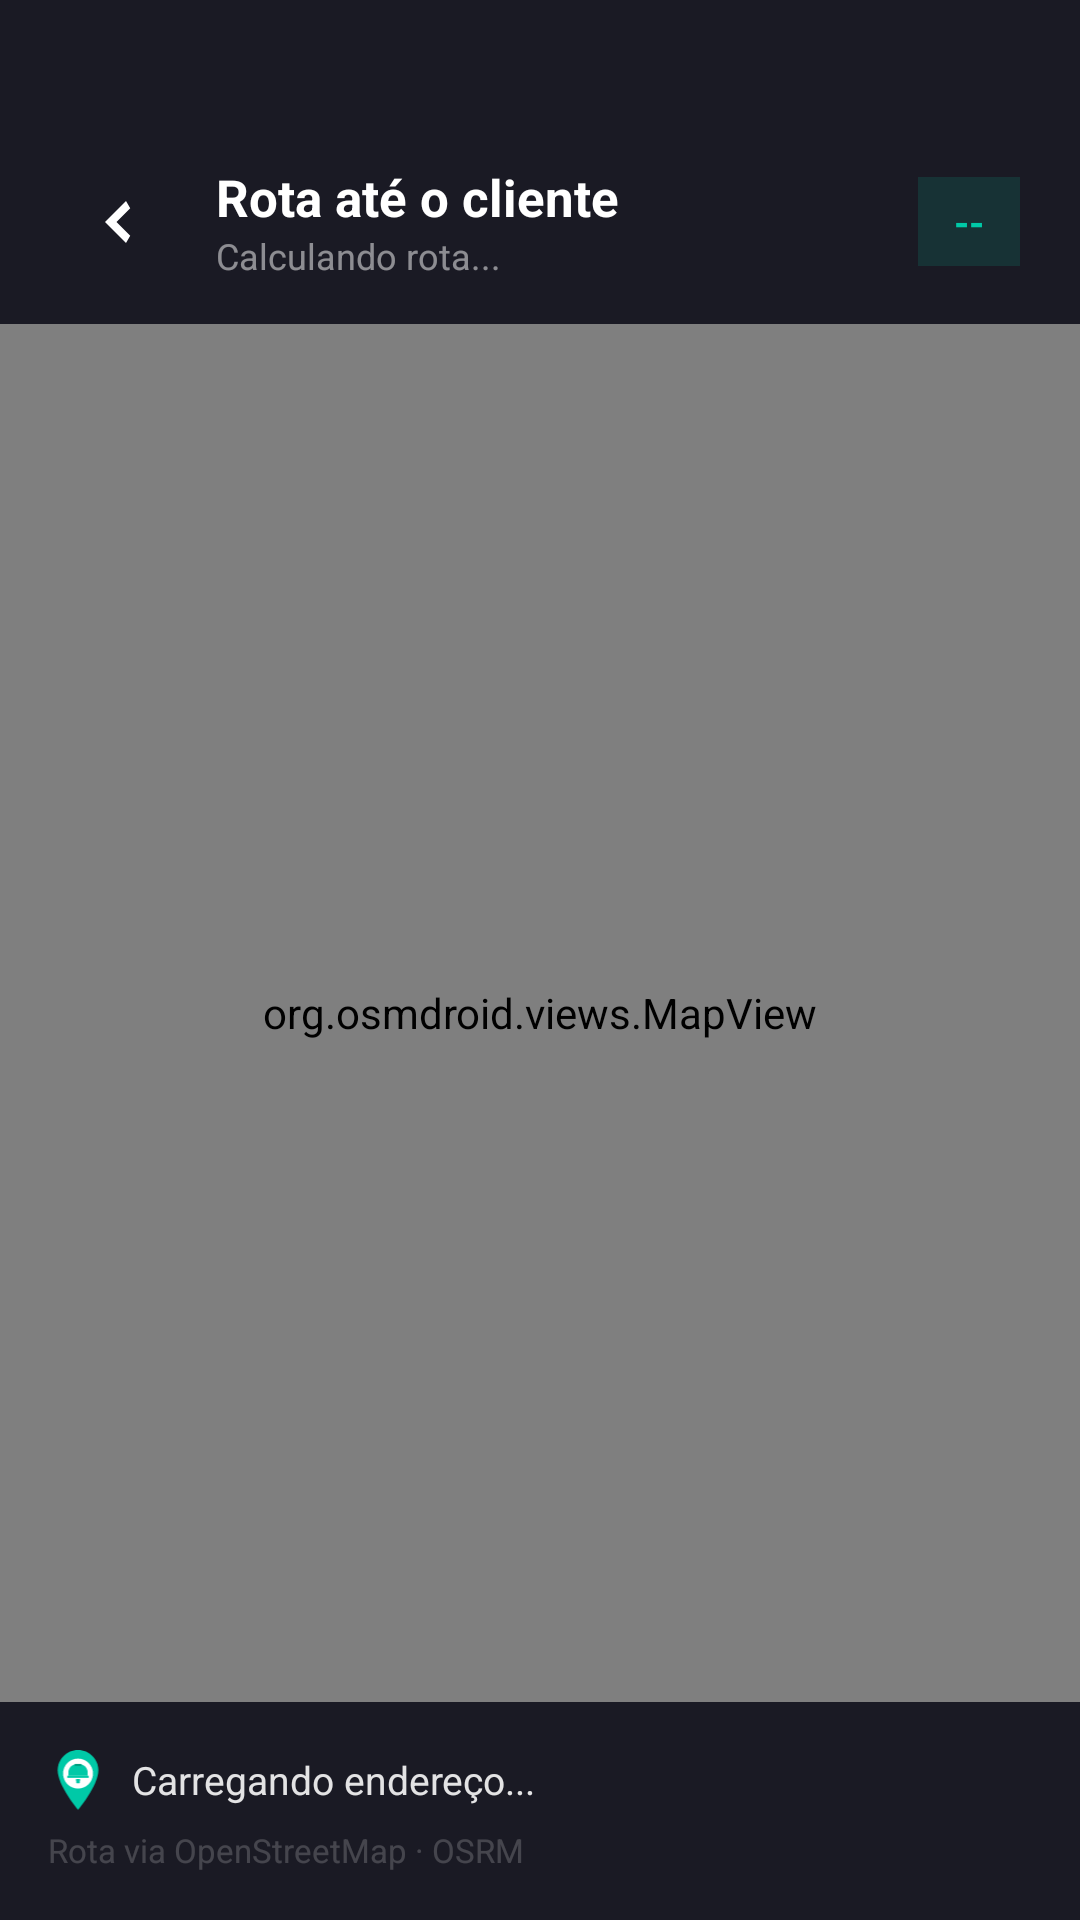

Point at icon controls on the screen. Image size 1080 × 1920, points as [x,y].
marker fixpro worker: [78,1780]
Voltar: [117,222]
